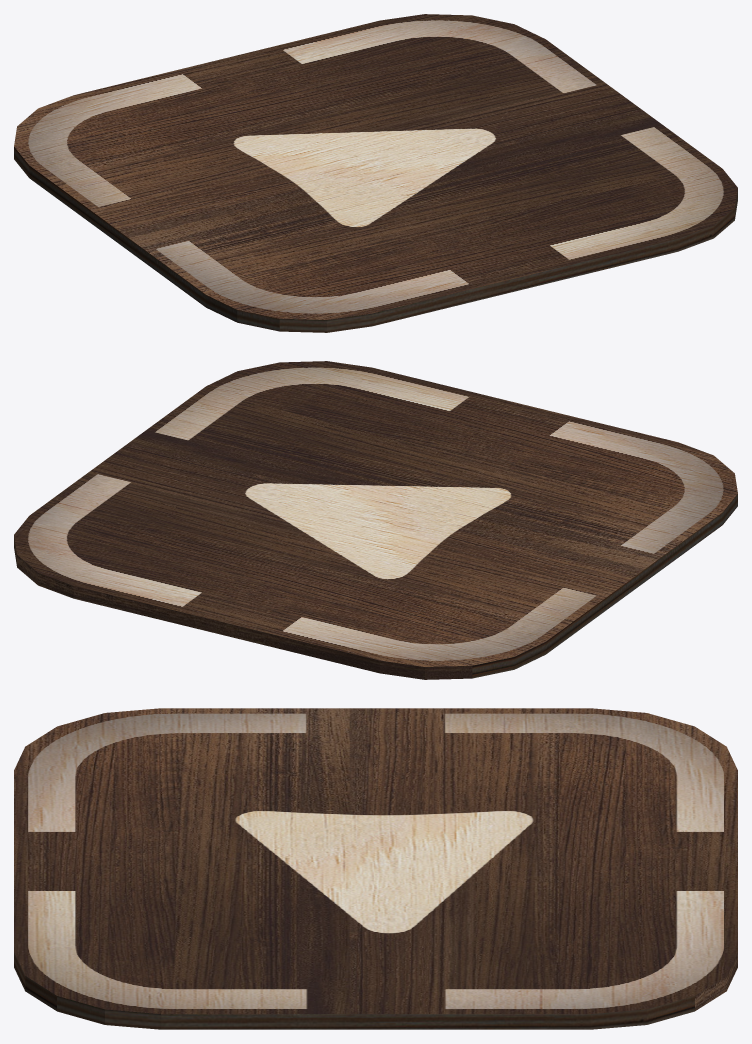
Rendered from start tile.fbx.
3 renders of one model, top to bottom at view 1: azimuth 30°, elevation 25°; view 2: azimuth 150°, elevation 25°; view 3: azimuth 270°, elevation 25°, orthographic. The views are drawn at different scales.
Parts seen in each view (by area): view 1: finish.003; view 2: finish.003; view 3: finish.003.
Boxes of the visible parts, <box> form: finish.003: <box>14,14,737,332</box>; finish.003: <box>14,361,737,679</box>; finish.003: <box>14,708,737,1029</box>.
Size of the model in its own units: 183 by 4.34 by 183.
Materials: 1 (1 with a texture image).
